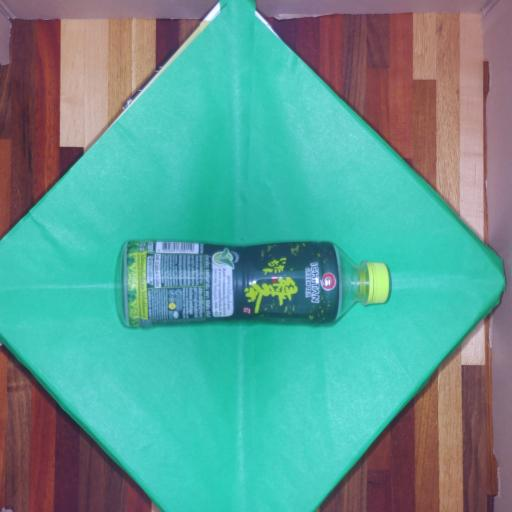bottle: (122, 241, 389, 326)
